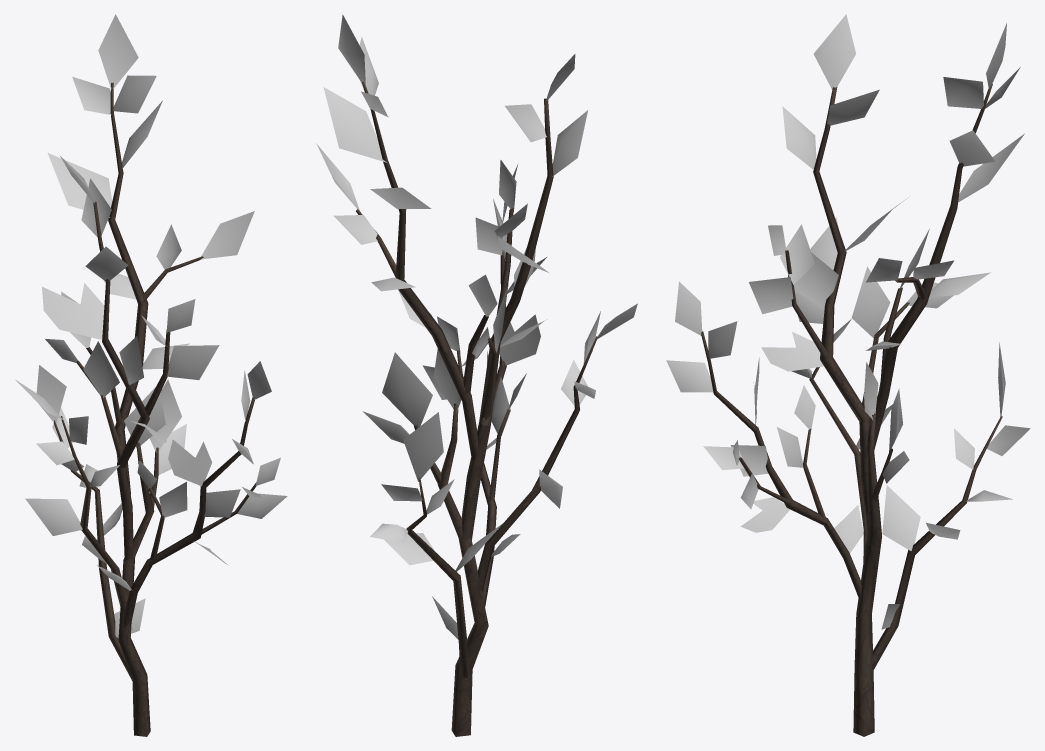
The model's file is SM_FW01_TreeSapling_01.fbx.
3 views of the same model, side by side, from view 1: azimuth 30°, elevation 25°; view 2: azimuth 150°, elevation 25°; view 3: azimuth 270°, elevation 25° (orthographic). The views are drawn at different scales.
Parts seen in each view (by area): view 1: SM_FW01_TreeSapling_01_LOD0; view 2: SM_FW01_TreeSapling_01_LOD0; view 3: SM_FW01_TreeSapling_01_LOD0.
Part boxes in pixels (x1=…): SM_FW01_TreeSapling_01_LOD0: x1=15, y1=14, x2=287, y2=736; SM_FW01_TreeSapling_01_LOD0: x1=316, y1=14, x2=637, y2=736; SM_FW01_TreeSapling_01_LOD0: x1=666, y1=14, x2=1030, y2=736.
Size of what is drawn, in the model's own units: 0.5143 by 1.25 by 0.5659.
